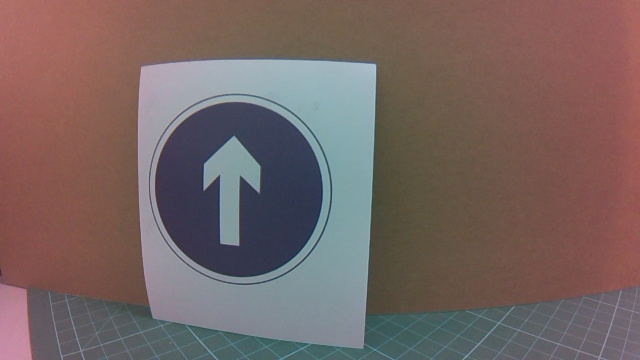forward: (160, 92, 356, 298)
